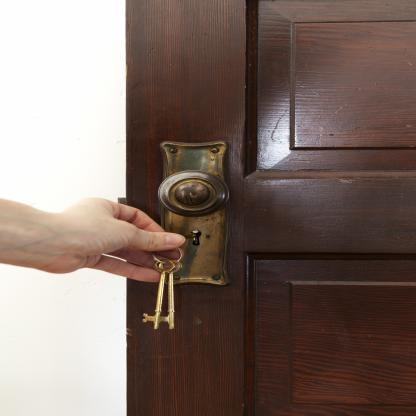keys: (142, 257, 186, 329)
